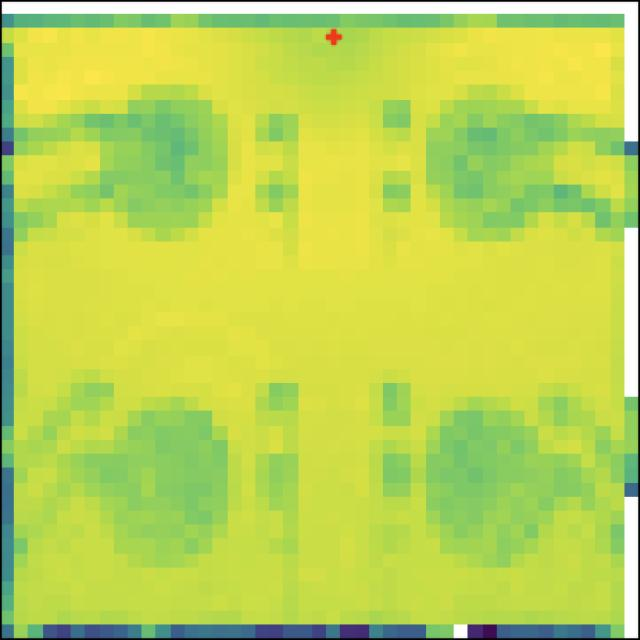Concrete: (423, 384, 584, 568)
Glass: (429, 84, 573, 243)
Metal: (95, 390, 243, 572)
Wood: (87, 79, 245, 241)
